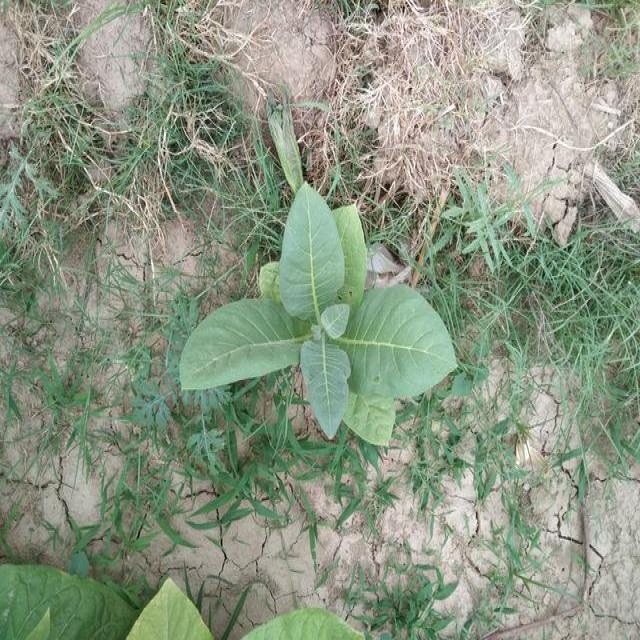crop: (176, 178, 464, 442)
